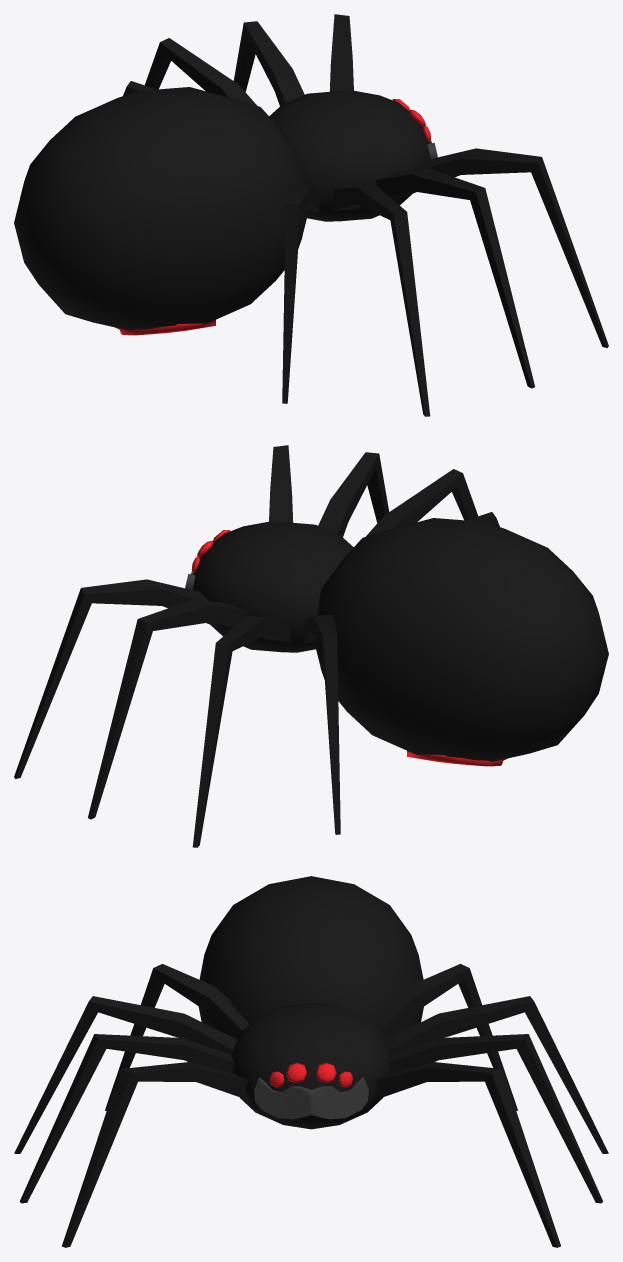
The model's file is MM_Spider.fbx.
3 renders of one model, top to bottom at view 1: azimuth 30°, elevation 25°; view 2: azimuth 150°, elevation 25°; view 3: azimuth 270°, elevation 25°, orthographic. The views are drawn at different scales.
Visible parts, largest first — view 1: MM_Spider; view 2: MM_Spider; view 3: MM_Spider.
Boxes of the visible parts, x1=… form: MM_Spider: x1=14, y1=14, x2=608, y2=416; MM_Spider: x1=14, y1=445, x2=608, y2=847; MM_Spider: x1=14, y1=876, x2=608, y2=1247.
Size of the model in its own units: 70.56 by 33.86 by 86.69.
